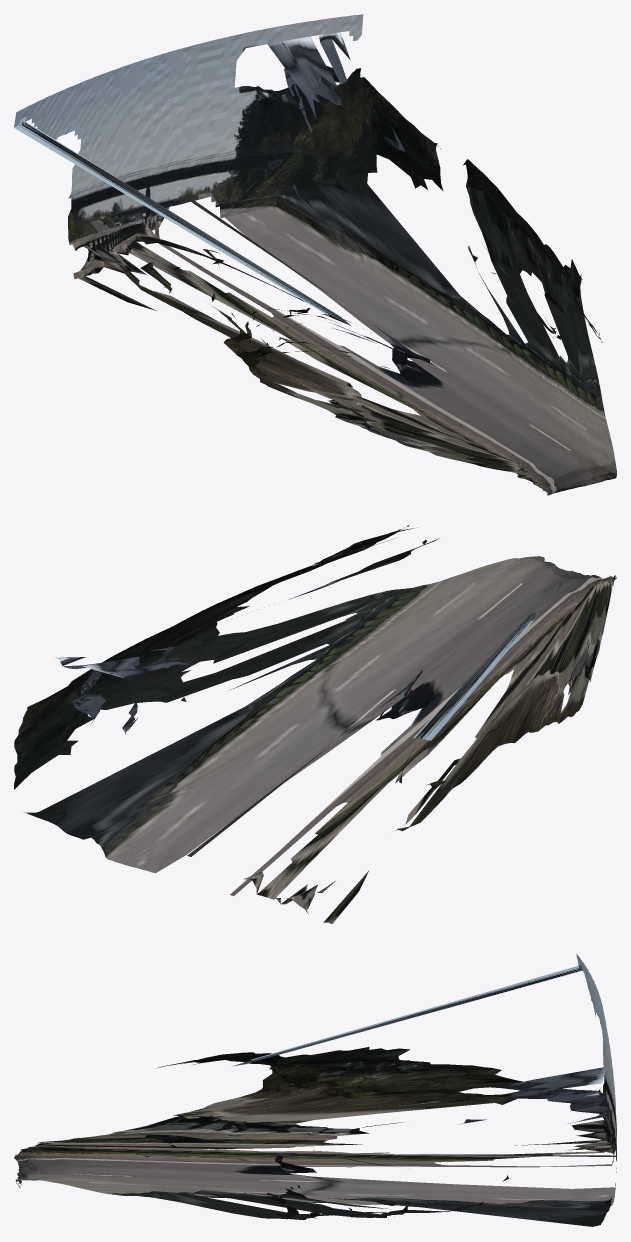
The picture shows the model from 3 angles, top to bottom: view 1: azimuth 30°, elevation 25°; view 2: azimuth 150°, elevation 25°; view 3: azimuth 270°, elevation 25°; orthographic projection. The views are drawn at different scales.
Parts seen in each view (by area): view 1: defaultobject; view 2: defaultobject; view 3: defaultobject.
Boxes of the visible parts, x1=… form: defaultobject: x1=14, y1=14, x2=616, y2=495; defaultobject: x1=14, y1=525, x2=616, y2=923; defaultobject: x1=14, y1=953, x2=616, y2=1226.
Bounding box in the file's own units: 27.04 × 13.17 × 44.52.
Materials: 1 (1 with a texture image).
